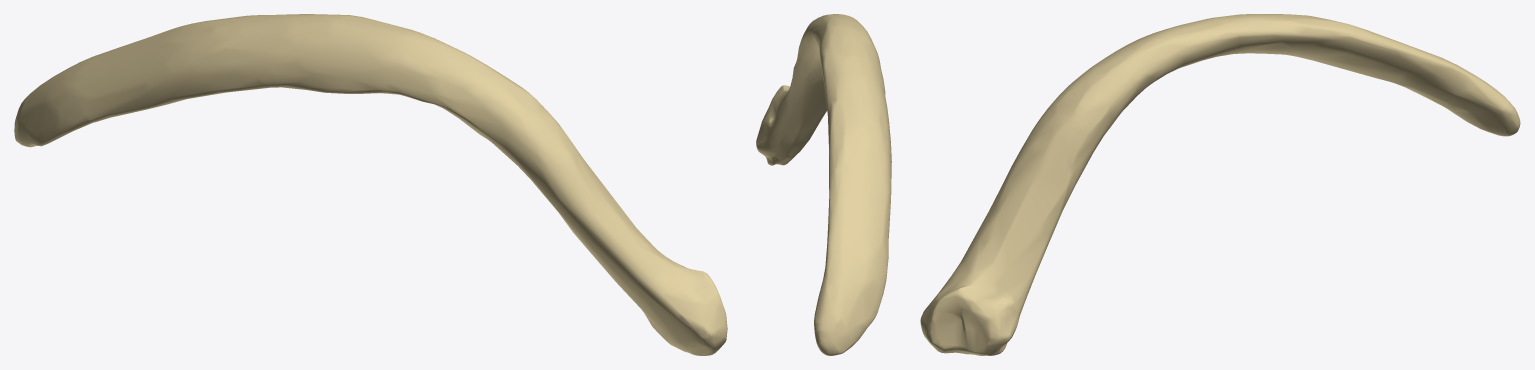
The picture shows the model from 3 angles, left to right: view 1: azimuth 30°, elevation 25°; view 2: azimuth 150°, elevation 25°; view 3: azimuth 270°, elevation 25°; orthographic projection. The views are drawn at different scales.
Visible parts, largest first — view 1: 右侧第十二肋; view 2: 右侧第十二肋; view 3: 右侧第十二肋.
Part boxes in pixels (x1,y1,x2,y2): 右侧第十二肋: (14,14,727,355); 右侧第十二肋: (756,14,891,355); 右侧第十二肋: (920,14,1520,355).
Bounding box in the file's own units: 0.0973 × 0.0654 × 0.1442.
